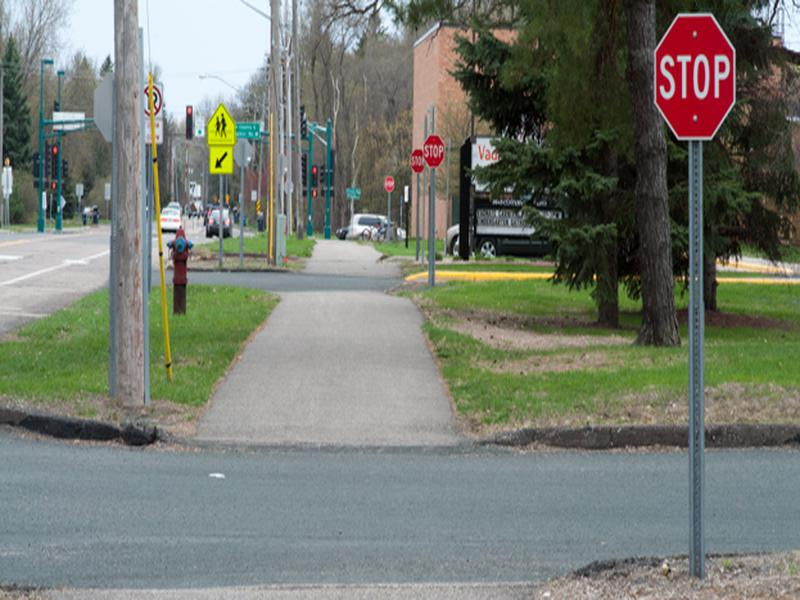slow: (202, 105, 241, 147)
stop: (652, 8, 737, 142), (424, 135, 444, 171), (411, 147, 428, 177)
